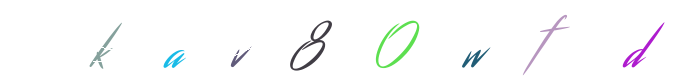0: (303, 0, 383, 80)
8: (302, 0, 382, 80)
A: (189, 0, 269, 80)
D: (600, 0, 680, 80)
F: (444, 0, 524, 80)
K: (133, 0, 213, 80)
V: (300, 0, 380, 80)
W: (357, 0, 437, 80)
